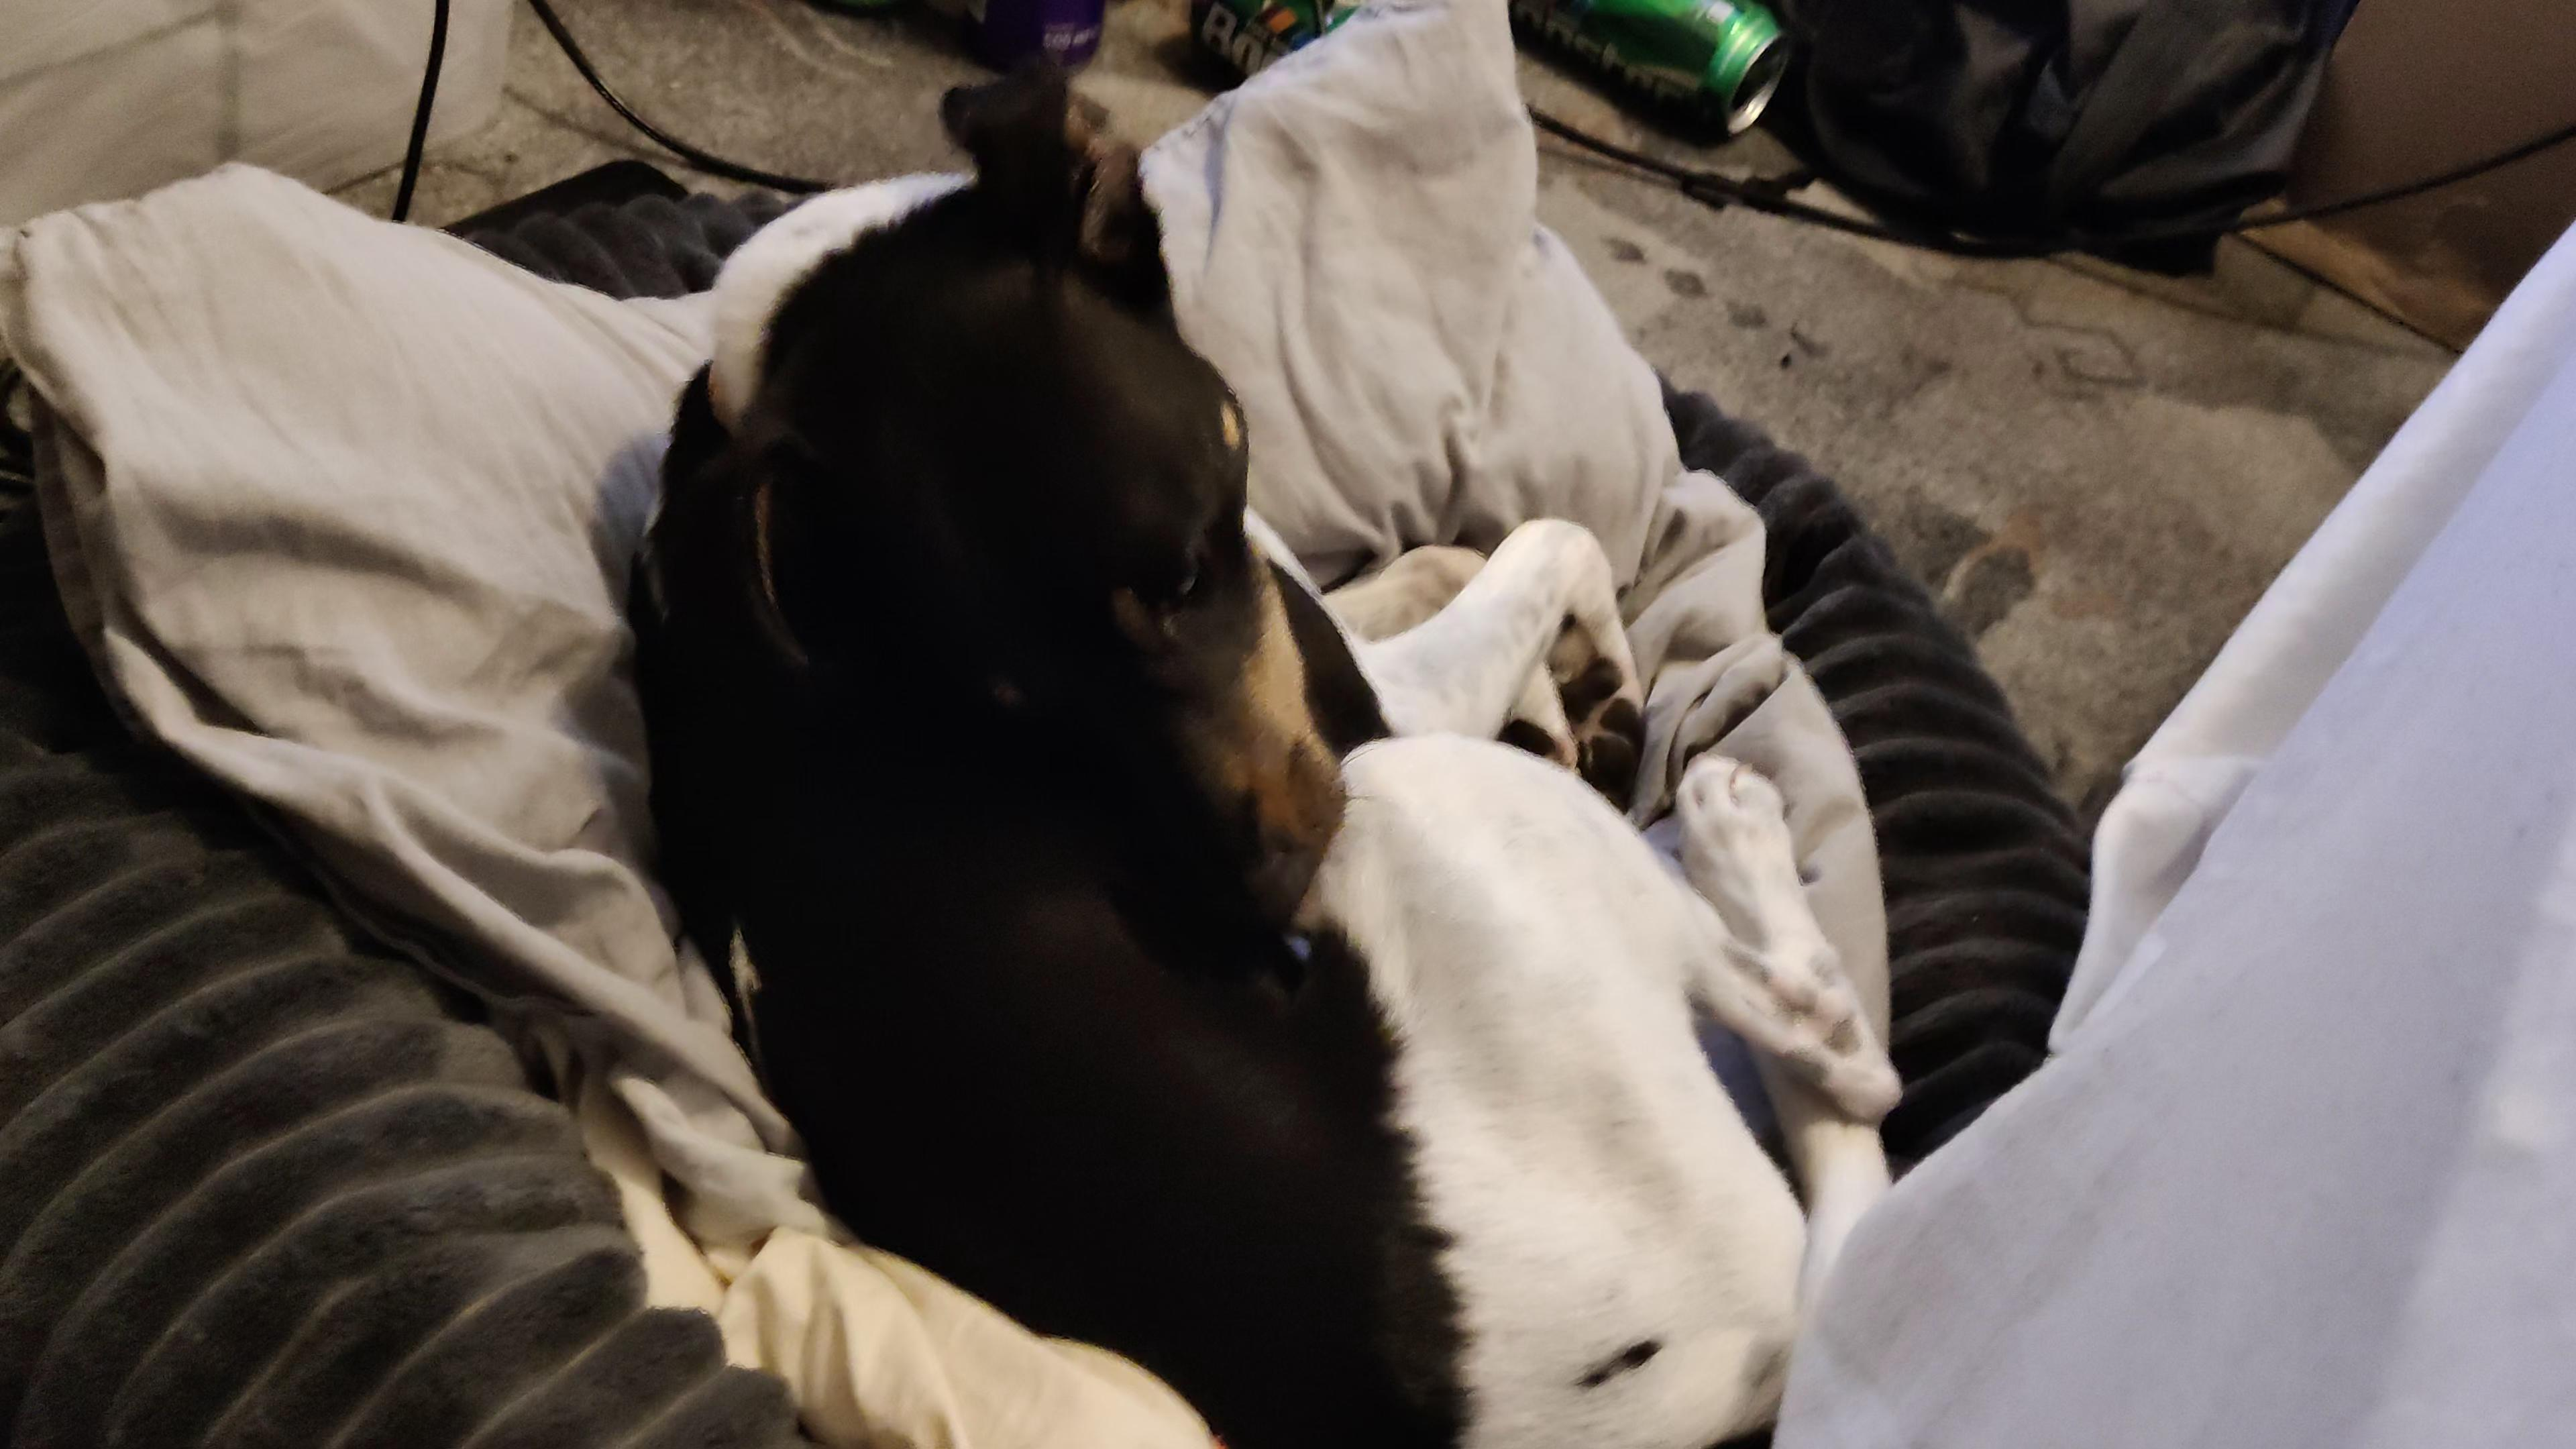Dog: (612, 46, 1911, 1449)
